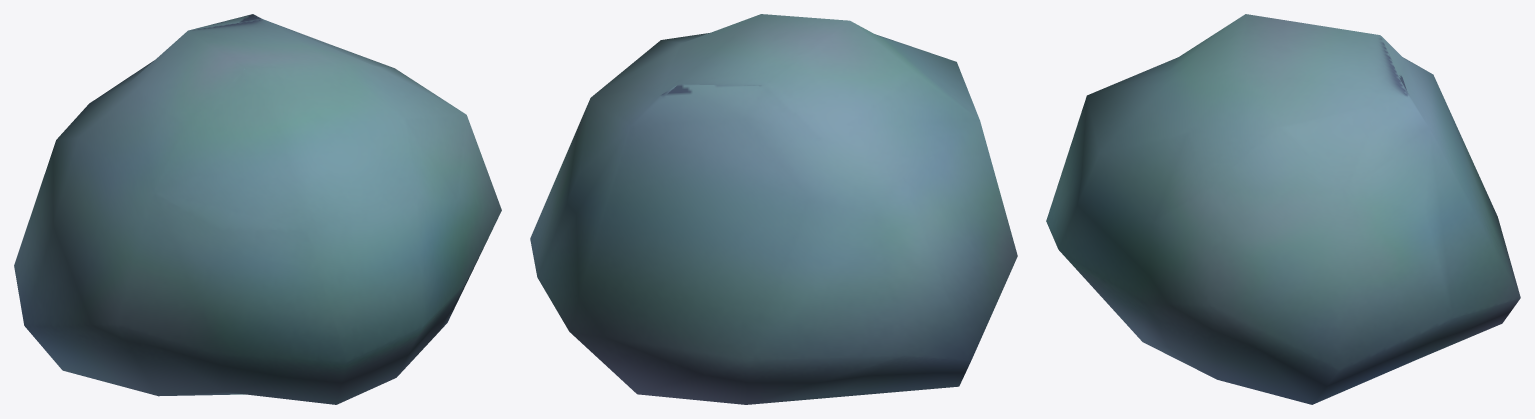
File: Rock1.glb
3 renders of one model, left to right at view 1: azimuth 30°, elevation 25°; view 2: azimuth 150°, elevation 25°; view 3: azimuth 270°, elevation 25°, orthographic. The views are drawn at different scales.
Visible parts, largest first — view 1: Rock1; view 2: Rock1; view 3: Rock1.
Boxes of the visible parts, bbox=[...] form: Rock1: bbox=[14, 14, 501, 404]; Rock1: bbox=[530, 14, 1017, 404]; Rock1: bbox=[1046, 14, 1520, 404].
Size of the model in its own units: 2.17 by 1.47 by 2.14.
1 material, 1 textured.
